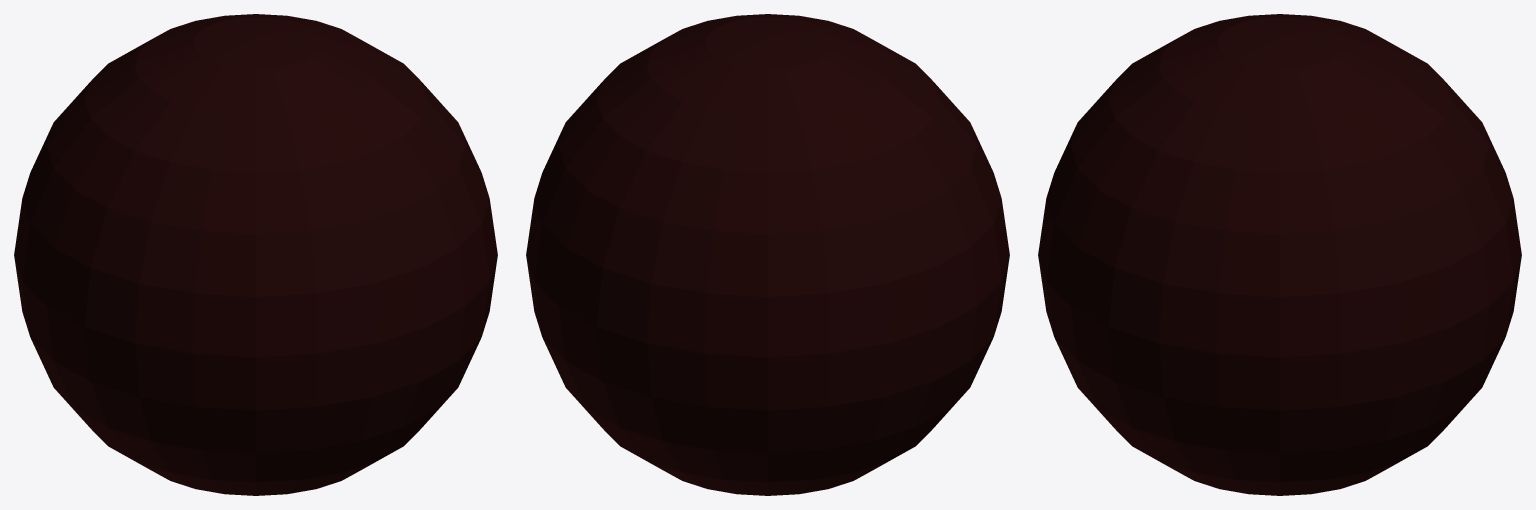
Rendered from cristal_light.fbx.
3 renders of one model, left to right at view 1: azimuth 30°, elevation 25°; view 2: azimuth 150°, elevation 25°; view 3: azimuth 270°, elevation 25°, orthographic.
Parts seen in each view (by area): view 1: env_shphere; view 2: env_shphere; view 3: env_shphere.
Part boxes in pixels (x1,y1,x2,y2): env_shphere: [14, 14, 497, 495]; env_shphere: [526, 14, 1009, 495]; env_shphere: [1038, 14, 1521, 495].
Size of the model in its own units: 1000 by 1000 by 1000.
